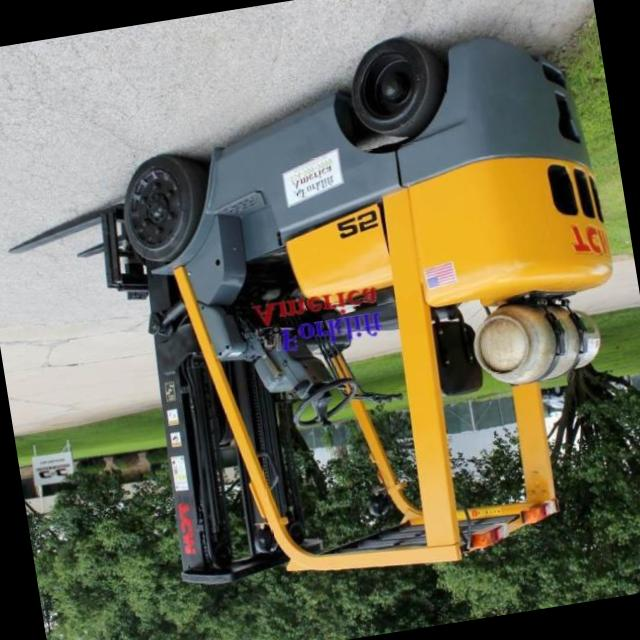forklift: (57, 4, 640, 637)
